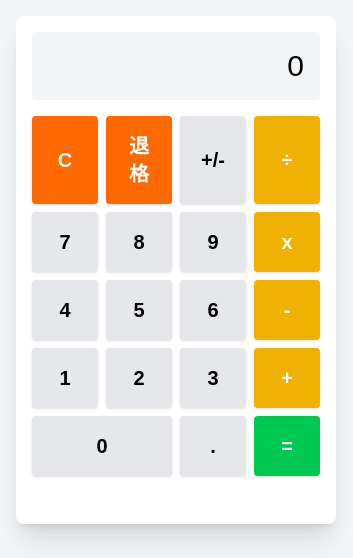
Test: CalculatorPage › handles digit input
Click the button "1": [65, 378] box [32,348,98,408]
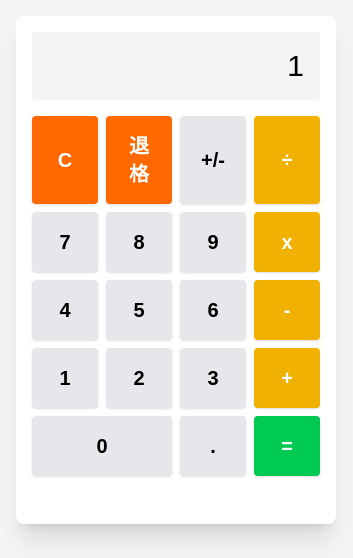
Click the button "2": [139, 378] box [106,348,172,408]
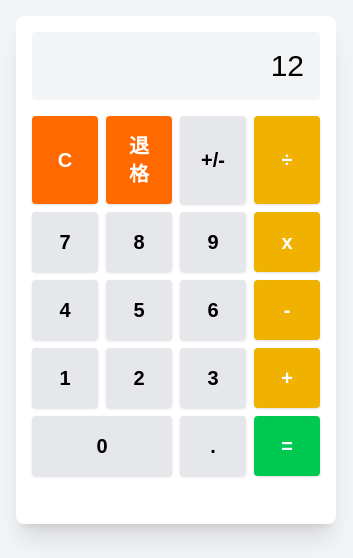
Click the button "3": [213, 378] box [180,348,246,408]
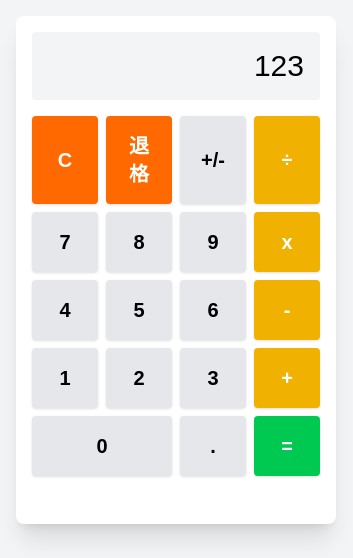
Now the text "123" is shown, box [254,49,304,82]
